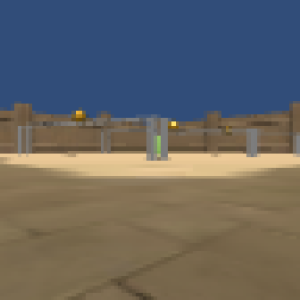goodGoal: (156, 132, 164, 160)
goodGoalMulti: (73, 108, 87, 124), (168, 117, 181, 132), (224, 125, 233, 139)
wall: (145, 117, 154, 161), (246, 127, 259, 157), (161, 118, 170, 161), (100, 130, 112, 155), (26, 127, 36, 154), (18, 126, 24, 155), (296, 134, 300, 152)
